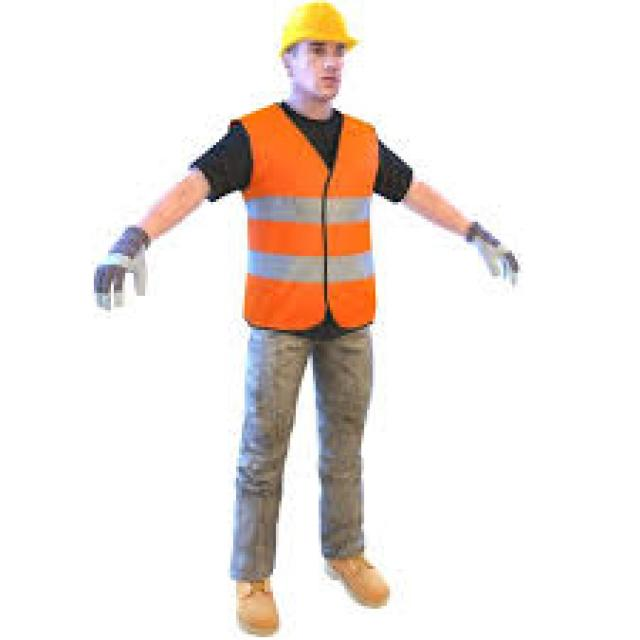Reflective-Jacket: (230, 102, 390, 336)
Safety-Helmet: (270, 0, 361, 57)
